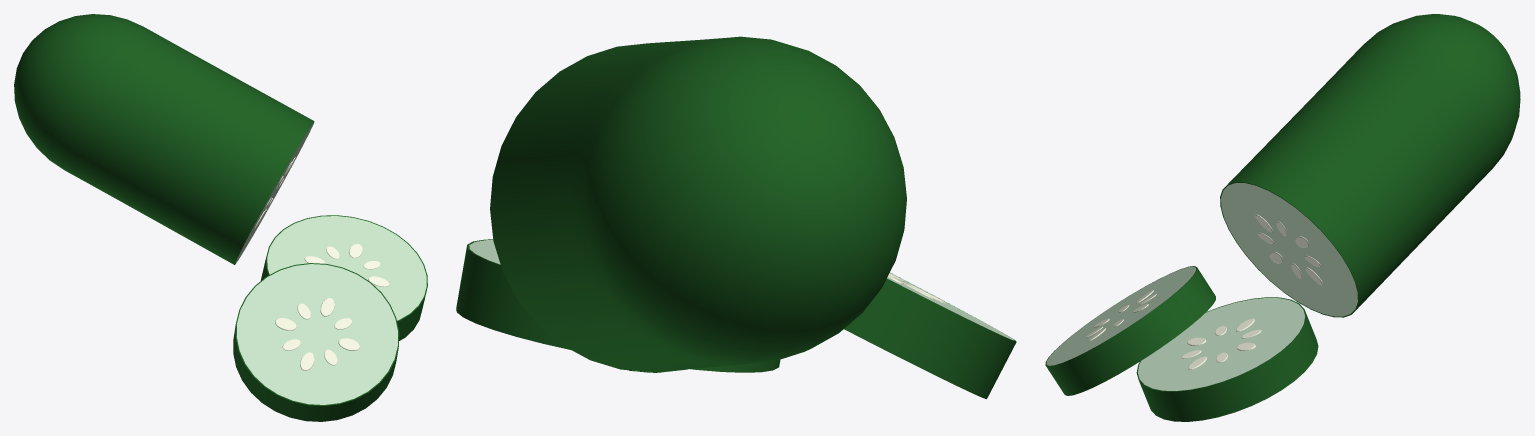
File: cucumber.gltf
3 views of the same model, side by side, from view 1: azimuth 30°, elevation 25°; view 2: azimuth 150°, elevation 25°; view 3: azimuth 270°, elevation 25° (orthographic). The views are drawn at different scales.
Parts seen in each view (by area): view 1: Sphere.483; view 2: Sphere.483; view 3: Sphere.483.
Part boxes in pixels (x1,y1,x2,y2): Sphere.483: [14, 14, 427, 421]; Sphere.483: [456, 36, 1016, 399]; Sphere.483: [1045, 14, 1520, 421].
Bounding box in the file's own units: 2.04 × 1.95 × 2.58.
Materials: 1 (1 with a texture image).
